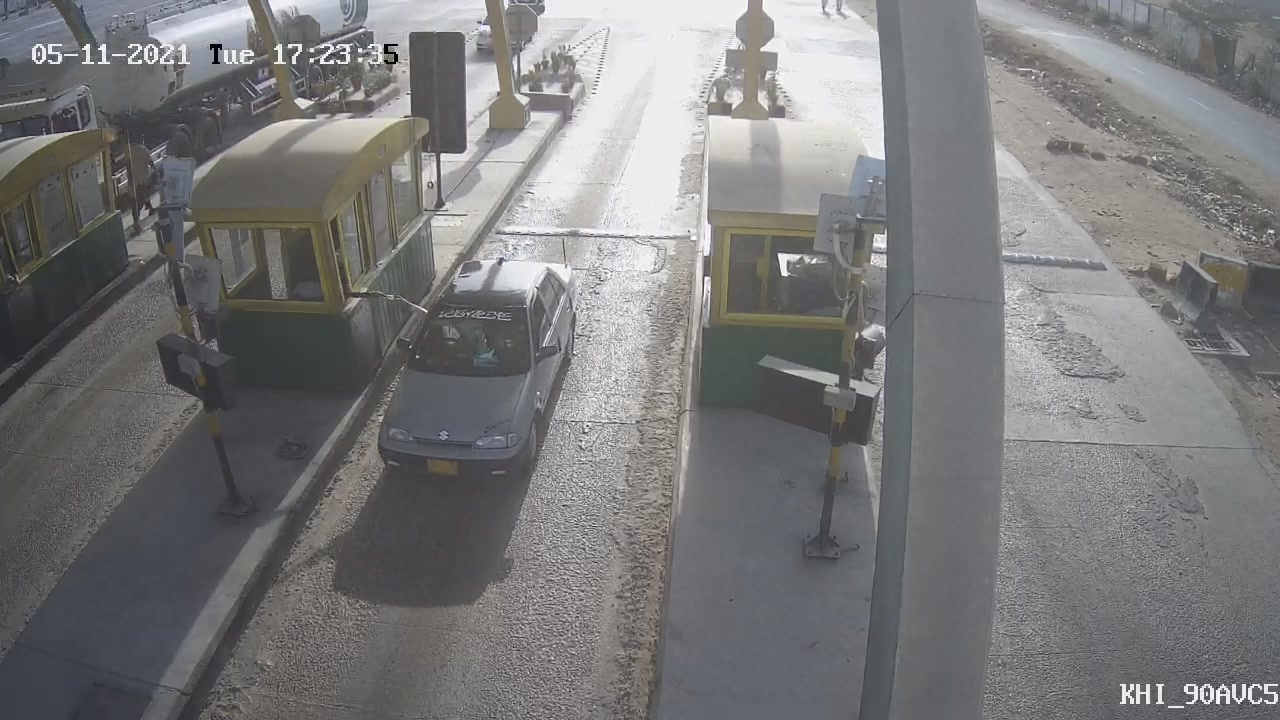F1: (344, 233, 604, 508)
